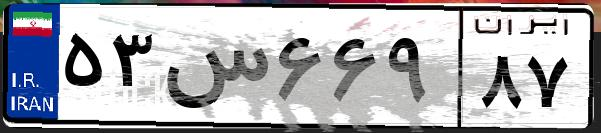3: (110, 28, 158, 98)
5: (57, 26, 110, 100)
6: (270, 28, 330, 110), (330, 28, 385, 110)
7: (525, 38, 570, 115)
8: (475, 38, 525, 113)
9: (385, 28, 445, 110)
س: (158, 20, 270, 120)
